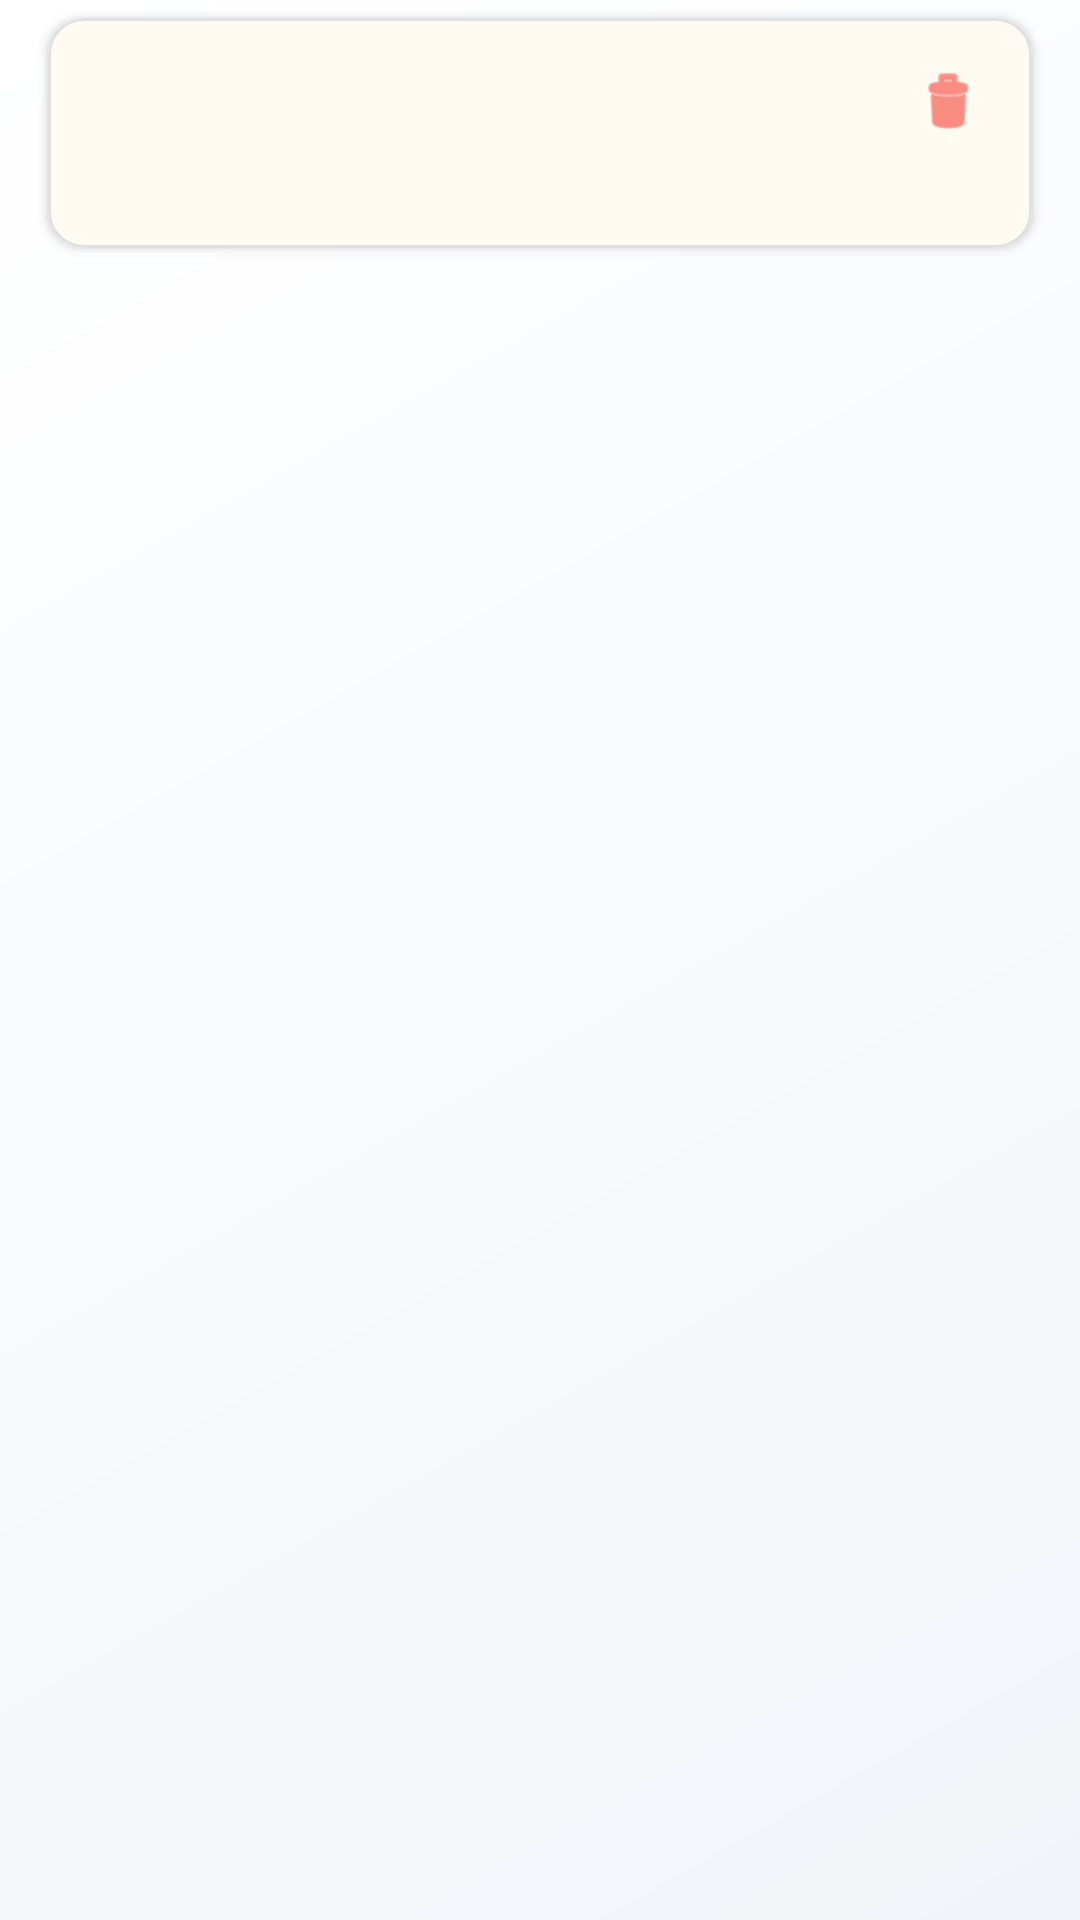

Screen size 1080x1920. Icon name, then its center in pixels as [x,y]:
delete: [948,101]
